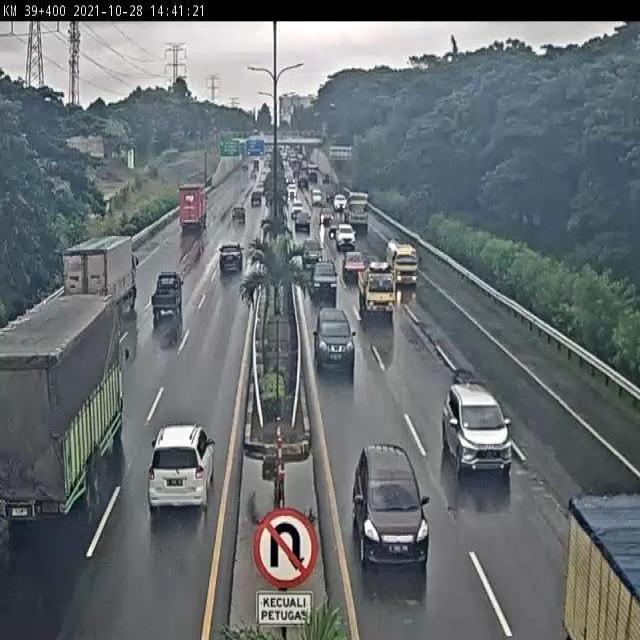Car: (352, 444, 430, 569), (137, 420, 229, 517), (442, 374, 513, 475), (312, 307, 356, 376), (150, 274, 192, 328), (308, 260, 338, 306), (218, 243, 244, 272), (343, 251, 366, 283), (302, 239, 323, 268), (336, 223, 356, 250), (227, 207, 250, 225), (294, 211, 312, 233), (291, 200, 304, 220), (333, 194, 347, 212), (311, 188, 322, 206), (321, 210, 332, 226)
Truck: (0, 299, 131, 518), (62, 237, 142, 323), (357, 264, 397, 320), (178, 182, 208, 233), (347, 192, 369, 232)
Van: (386, 239, 418, 286)
